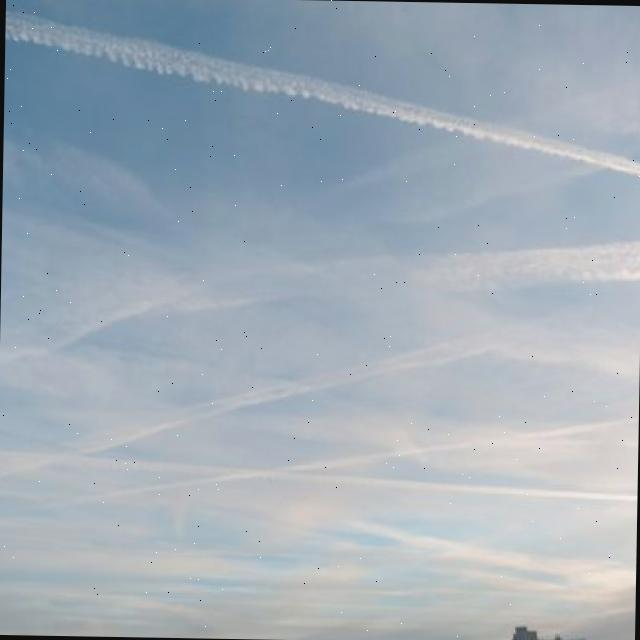Ct: (1, 37, 640, 580)
